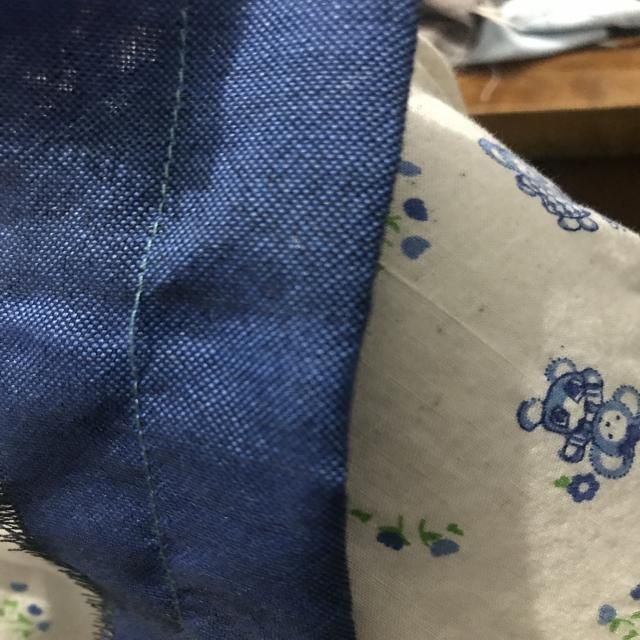skip: (100, 272, 163, 384)
